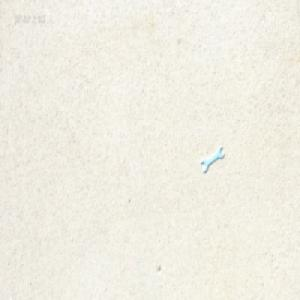Wrench: (200, 145, 224, 172)
